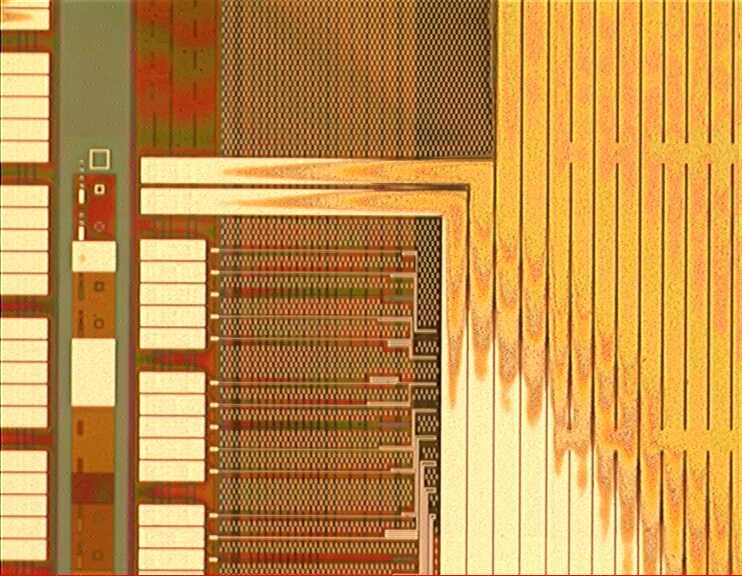COATING BAD: (211, 1, 742, 576)
